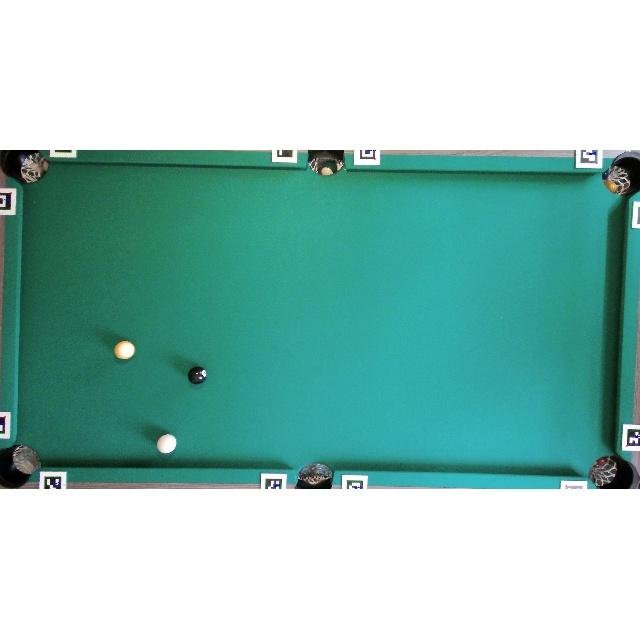cue ball: (156, 433, 177, 455)
other: (113, 339, 136, 360), (188, 366, 207, 384)
